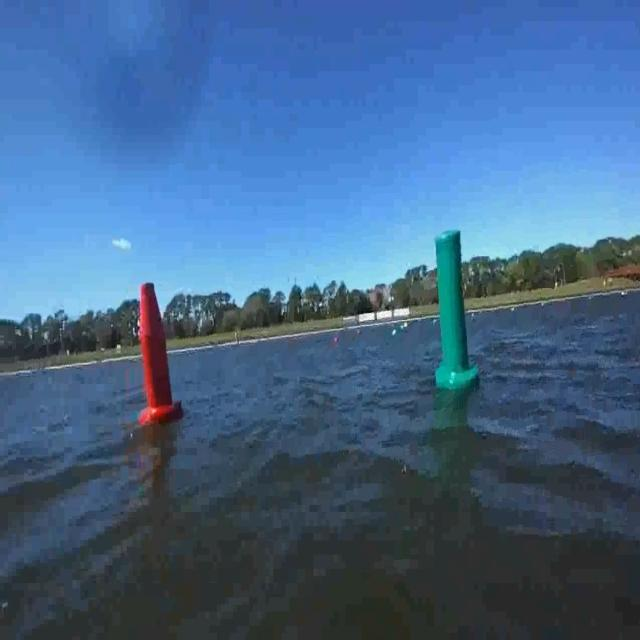green-column-buoy: (433, 231, 479, 393)
red-column-buoy: (136, 278, 181, 424)
